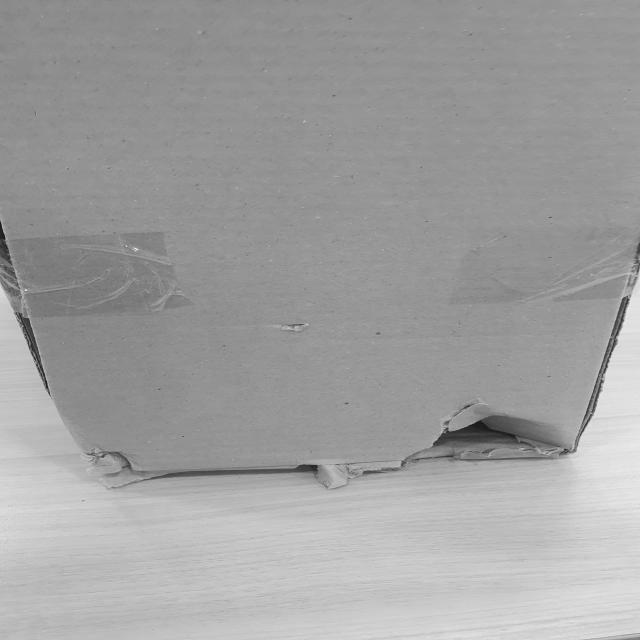hole: (368, 392, 597, 471)
